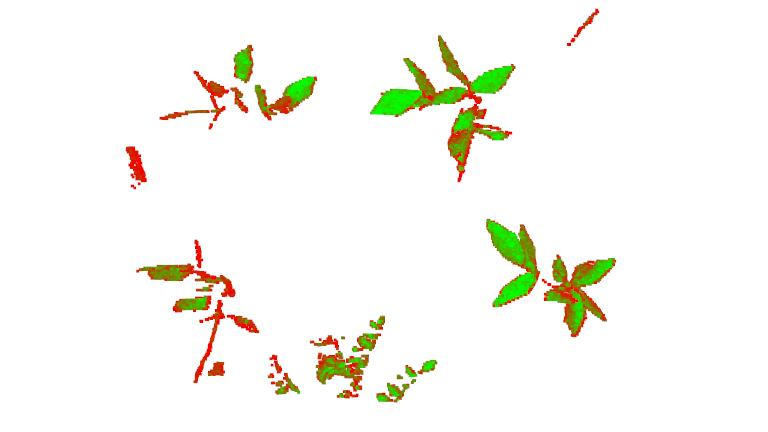mungbean: (375, 35, 520, 182), (140, 242, 260, 382), (487, 216, 615, 335), (159, 41, 318, 128)
